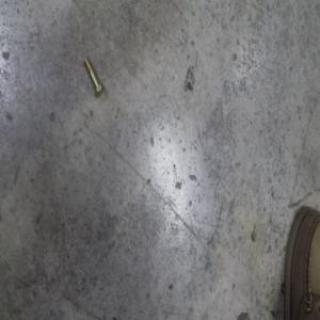Bolttrack_idkeyframe: (83, 54, 104, 98)
